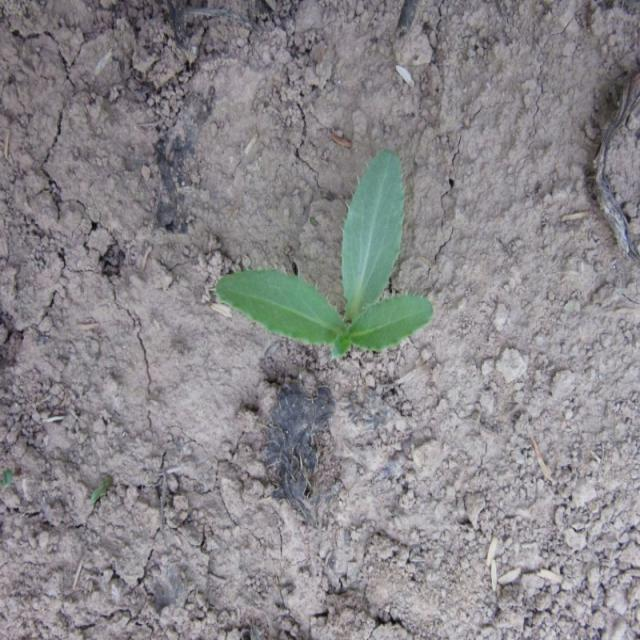cs: (215, 144, 438, 362)
